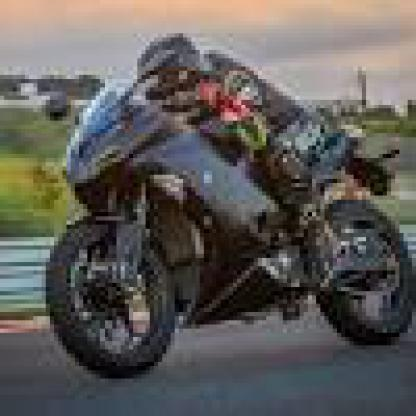Motorcycle: (33, 75, 412, 383)
